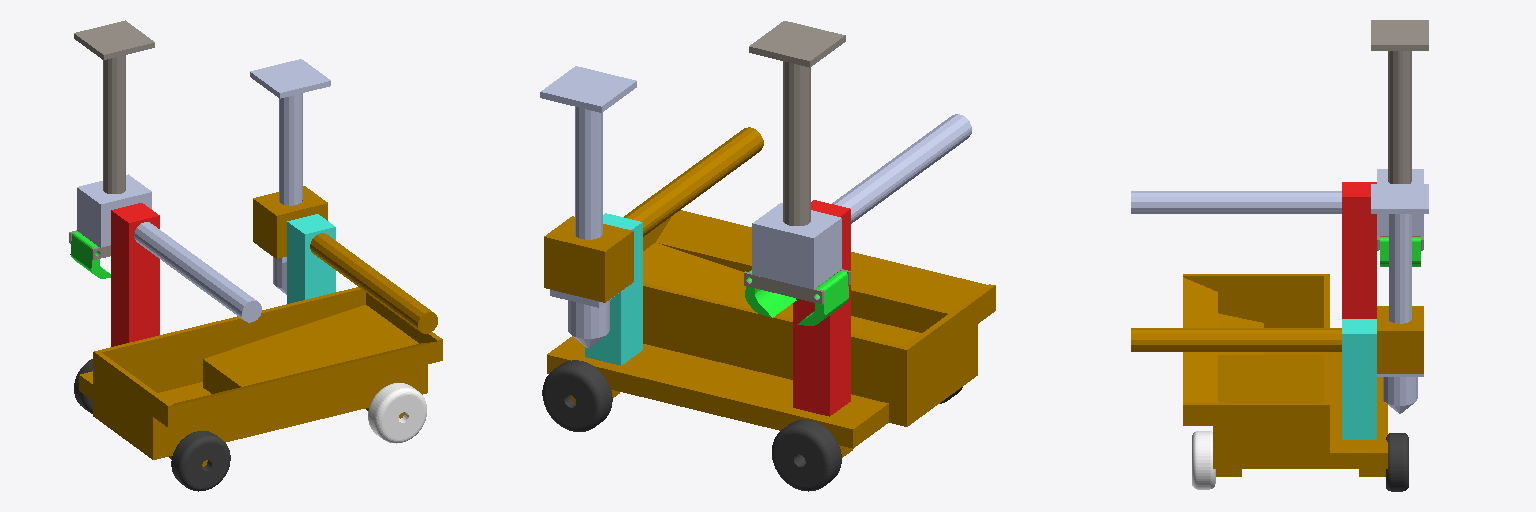
URDF robot description (Assem1):
<?xml version="0.0" encoding="utf-8"?>
<!-- This URDF was automatically created by SolidWorks to URDF Exporter! Originally created by [author] ([email redacted]) 
     Commit Version: 1.5.1-0-g916b5db  Build Version: 1.5.7152.31018
     For more information, please see http://wiki.ros.org/sw_urdf_exporter -->
<robot
  name="Assem1">
  
<link name="base_link">
    <inertial>
      <origin
        xyz="0 0 0"
        rpy="0 0 0" />
      <mass
        value="20.0" />
      <inertia
        ixx="1.0"
        ixy="0.0"
        ixz="0.0"
        iyy="1.0"
        iyz="0.0"
        izz="1.0" />
    </inertial>
    <visual>
      <origin
        xyz="0 0 0"
        rpy="0 0 0" />
      <geometry>
        <mesh
          filename="package://robot_urdf/mesh/base_link.STL" />
      </geometry>
      <material
        name="link1">
        <color
          rgba="0.75294 0.53333 0 1" />
      </material>
    </visual>
    <collision>
      <origin
        xyz="0 0 0"
        rpy="0 0 0" />
      <geometry>
        <mesh
          filename="package://robot_urdf/mesh/base_link.STL" />
      </geometry>
    </collision>
  </link>

  <link
    name="digging_link_1">
<inertial>
      <origin
        xyz="0 0 0"
        rpy="0 0 0" />
      <mass
        value="0.63832" />
      <inertia
        ixx="1.0"
        ixy="0.0"
        ixz="0.0"
        iyy="1.0"
        iyz="0.0"
        izz="1.0" />
    </inertial>
    <visual>
      <origin
        xyz="0 0 0"
        rpy="0 0 0" />
      <geometry>
        <mesh
          filename="package://robot_urdf/mesh/digging_link_1.STL" />
      </geometry>
      <material
        name="">
        <color
          rgba="0.317647058823529 1 0.925490196078431 1" />
      </material>
    </visual>
    
    <collision>
      <origin
        xyz="0 0 0"
        rpy="0 0 0" />
      <geometry>
        <mesh
          filename="package://robot_urdf/mesh/digging_link_1.STL" />
      </geometry>
    </collision>
  </link>
 <joint
 name="base_to_digging_link_1" type="revolute">
	<parent link="base_link" />
    	<child link="digging_link_1" />
   	
    	<limit lower="-3.1416" upper="3.1416" effort="0.2" velocity="0.5" />
 	<origin xyz="0.17 0 0" rpy="0 0 0" />
	<axis xyz="0 0 1" />
  </joint>

  <link
    name="digging_link_2">
    <inertial>
      <origin
        xyz="0 0 0"
        rpy="0 0 0" />
      <mass
        value="1.0673" />
      <inertia
        ixx="1.0"
        ixy="0.0"
        ixz="0.0"
        iyy="1.0"
        iyz="0.0"
        izz="1.0" />
    </inertial>
    <visual>
      <origin
        xyz="0 0.06998 0"
        rpy="0 0 0" />
      <geometry>
        <mesh
          filename="package://robot_urdf/mesh/digging_link_2.STL" />
      </geometry>
      <material
        name="red">
        <color
          rgba="0.75294 0.53333 0 1" />
      </material>
    </visual>
    <collision>
      <origin
        xyz="0 0 0"
        rpy="0 0 0" />
      <geometry>
        <mesh
          filename="package://robot_urdf/mesh/digging_link_2.STL" />
      </geometry>
    </collision>
  </link>
  <joint
    name="digging_link_1_to_2"
    type="prismatic">
    <origin
      xyz="0 0 0.175"
      rpy="0 0 0" />
    <parent
      link="digging_link_1" />
    <child
      link="digging_link_2" />
    <axis
      xyz="0 1 0" />
    <limit
      lower="0"
      upper="0.28"
      effort="0.2"
      velocity="0.5" />
  </joint>
  <link
    name="digging_link_3">
    <inertial>
      <origin
        xyz="0 0 0"
        rpy="0 0 0" />
      <mass
        value="0.001" />
      <inertia
        ixx="0.0"
        ixy="0.0"
        ixz="0.0"
        iyy="0.0"
        iyz="0.0"
        izz="0.0" />
    </inertial>
    <visual>
      <origin
        xyz="0 0 0.04"
        rpy="0 0 0" />
      <geometry>
        <mesh
          filename="package://robot_urdf/mesh/digging_link_3.STL" />
      </geometry>
      <material
        name="blue">
        <color
          rgba="0.79216 0.81961 0.93333 1" />
      </material>
    </visual>
    <collision>
      <origin
        xyz="0 0 0"
        rpy="0 0 0" />
      <geometry>
        <mesh
          filename="package://robot_urdf/mesh/digging_link_3.STL" />
      </geometry>
    </collision>
  </link>
  <joint
    name="digging_link_2_to_3"
    type="prismatic">
    <origin
      xyz="0 0.07 0"
      rpy="3.1416 0 0" />
    <parent
      link="digging_link_2" />
    <child
      link="digging_link_3" />
    <axis
      xyz="0 0 1" />
    <limit
      lower="0"
      upper="0.22"
      effort="0.2"
      velocity="0.5" />
  </joint>
  <link
    name="seeding_link_1">
    <inertial>
      <origin
        xyz="0 0 0"
        rpy="0 0 0" />
      <mass
        value="0.99832" />
      <inertia
        ixx="1.0"
        ixy="0.0"
        ixz="0.0"
        iyy="1.0"
        iyz="0.0"
        izz="1.0" />
    </inertial>
    <visual>
      <origin
        xyz="0 0 0"
        rpy="0 0 0" />
      <geometry>
        <mesh
          filename="package://robot_urdf/mesh/seeding_link_1.STL" />
      </geometry>
      <material
        name="red">
        <color
          rgba="1 0.16863 0.16863 1" />
      </material>
    </visual>
    <collision>
      <origin
        xyz="0 0 0"
        rpy="0 0 0" />
      <geometry>
        <mesh
          filename="package://robot_urdf/mesh/seeding_link_1.STL" />
      </geometry>
    </collision>
  </link>
  <joint
    name="base_to_seeding_link_1"
    type="revolute">
    <origin
      xyz="-0.17 0 0"
      rpy="0 0 0" />
    <parent
      link="base_link" />
    <child
      link="seeding_link_1" />
    <axis
      xyz="0 0 1" />
    <limit
      lower="-3.1416"
      upper="3.1416"
      effort="0.2"
      velocity="0.5" />
  </joint>
  <link
    name="seeding_link_2">
    <inertial>
      <origin
        xyz="0 0 0"
        rpy="0 0 0" />
      <mass
        value="1.0673" />
      <inertia
        ixx="1.0"
        ixy="0.0"
        ixz="0.0"
        iyy="1.0"
        iyz="0.0"
        izz="1.0" />
    </inertial>
    <visual>
      <origin
        xyz="0 0.07 0"
        rpy="0 0 0" />
      <geometry>
        <mesh
          filename="package://robot_urdf/mesh/seeding_link_2.STL" />
      </geometry>
      <material
        name="green">
        <color
          rgba="0.79216 0.81961 0.93333 1" />>
      </material>
    </visual>
    <collision>
      <origin
        xyz="0 0 0"
        rpy="0 0 0" />
      <geometry>
        <mesh
          filename="package://robot_urdf/mesh/seeding_link_2.STL" />
      </geometry>
    </collision>
  </link>
  <joint
    name="seeding_link_1_to_2"
    type="prismatic">
    <origin
      xyz="0 0 0.275"
      rpy="0 0 0" />
    <parent
      link="seeding_link_1" />
    <child
      link="seeding_link_2" />
    <axis
      xyz="0 1 0" />
    <limit
      lower="0"
      upper="0.30"
      effort="0.2"
      velocity="0.5" />
  </joint>
  <link
    name="seeding_link_3">
    <inertial>
      <origin
        xyz="0 0 0"
        rpy="0 0 0" />
      <mass
        value="0.001" />
      <inertia
        ixx="0.0"
        ixy="0.0"
        ixz="0.0"
        iyy="0.0"
        iyz="0.0"
        izz="0.0" />
    </inertial>
    <visual>
      <origin
        xyz="0 0 0.04"
        rpy="0 0 0" />
      <geometry>
        <mesh
          filename="package://robot_urdf/mesh/seeding_link_3.STL" />
      </geometry>
      <material
        name="red">
        <color
          rgba="0.64706 0.61961 0.58824 1" />
      </material>
    </visual>
    <collision>
      <origin
        xyz="0 0 0"
        rpy="0 0 0" />
      <geometry>
        <mesh
          filename="package://robot_urdf/mesh/seeding_link_3.STL" />
      </geometry>
    </collision>
  </link>
  <joint
    name="seeding_link_2_to_3"
    type="prismatic">
    <origin
      xyz="0 0.07 0"
      rpy="3.1416 0 0" />
    <parent
      link="seeding_link_2" />
    <child
      link="seeding_link_3" />
    <axis
      xyz="0 0 1" />
    <limit
      lower="0"
      upper="0.22"
      effort="0.2"
      velocity="0.5" />
  </joint>
  <link
    name="clamp1">
    <inertial>
      <origin
        xyz="0 0 0"
        rpy="0 0 0" />
      <mass
        value="0.001" />
      <inertia
        ixx="1.0"
        ixy="0.0"
        ixz="0.0"
        iyy="1.0"
        iyz="0.0"
        izz="1.0" />
    </inertial>
    <visual>
      <origin
        xyz="0 0 0"
        rpy="0 0 0" />
      <geometry>
        <mesh
          filename="package://robot_urdf/mesh/clamp1.STL" />
      </geometry>
      <material
        name="green">
        <color
          rgba="0.19608 1 0.27451 1" />
      </material>
    </visual>
    <collision>
      <origin
        xyz="0 0 0"
        rpy="0 0 0" />
      <geometry>
        <mesh
          filename="package://robot_urdf/mesh/clamp1.STL" />
      </geometry>
    </collision>
  </link>
  <joint
    name="seeding_link_to_clamp1"
    type="revolute">
    <origin
      xyz="-0.055 0 0.05"
      rpy="0 -0.084482 0" />
    <parent
      link="seeding_link_3" />
    <child
      link="clamp1" />
    <axis
      xyz="0 1 0" />
    <limit
      lower="-1.1516"
      upper="1.1516"
      effort="0"
      velocity="0.5" />
  </joint>
  <link
    name="clamp2">
    <inertial>
      <origin
        xyz="0 0 0"
        rpy="0 0 0" />
      <mass
        value="0.001" />
      <inertia
        ixx="1.0"
        ixy="0.0"
        ixz="0.0"
        iyy="1.0"
        iyz="0.0"
        izz="1.0" />
    </inertial>
    <visual>
      <origin
        xyz="0 0 0"
        rpy="0 0 0" />
      <geometry>
        <mesh
          filename="package://robot_urdf/mesh/clamp2.STL" />
      </geometry>
      <material
        name="green">
        <color
          rgba="0.19608 1 0.27451 1" />
      </material>
    </visual>
    <collision>
      <origin
        xyz="0 0 0"
        rpy="0 0 0" />
      <geometry>
        <mesh
          filename="package://robot_urdf/mesh/clamp2.STL" />
      </geometry>
    </collision>
  </link>
  <joint
    name="seeding_link_to_clamp2"
    type="revolute">
    <origin
      xyz="0.055 0 0.05"
      rpy="0 0.084482 0" />
    <parent
      link="seeding_link_3" />
    <child
      link="clamp2" />
    <axis
      xyz="0 -1 0" />
    <limit
      lower="-1.1516"
      upper="1.1516"
      effort="0"
      velocity="0.5" />
  </joint>
  <link
    name="tyre1">
    <inertial>
      <origin
        xyz="0 0 0"
        rpy="0 0 0" />
      <mass
        value="0.28871" />
      <inertia
        ixx="1.0"
        ixy="0.0"
        ixz="0.0"
        iyy="1.0"
        iyz="0.0"
        izz="1.0" />
    </inertial>
    <visual>
      <origin
        xyz="0 0 0"
        rpy="0 0 0" />
      <geometry>
        <mesh
          filename="package://robot_urdf/mesh/tyre1.STL" />
      </geometry>
      <material
        name="black">
        <color
          rgba="0.29804 0.29804 0.29804 1" />
      </material>
    </visual>
    <collision>
      <origin
        xyz="0 0 0"
        rpy="0 0 0" />
      <geometry>
        <mesh
          filename="package://robot_urdf/mesh/tyre1.STL" />
      </geometry>
    </collision>
  </link>
  <joint
    name="base_to_tyre1"
    type="continuous">
    <origin
      xyz="0.19123 0.04506 -0.045"
      rpy="1.5708 0 -3.1416" />
    <parent
      link="base_link" />
    <child
      link="tyre1" />
    <axis
      xyz="0 0 -1" />
  </joint>
  <link
    name="tyre2">
    <inertial>
      <origin
        xyz="0 0 0"
        rpy="0 0 0" />
      <mass
        value="0.28871" />
      <inertia
        ixx="1.0"
        ixy="0.0"
        ixz="0.0"
        iyy="1.0"
        iyz="0.0"
        izz="1.0" />
    </inertial>
    <visual>
      <origin
        xyz="0 0 0"
        rpy="0 0 0" />
      <geometry>
        <mesh
          filename="package://robot_urdf/mesh/tyre2.STL" />
      </geometry>
      <material
        name="black">
        <color
          rgba="0.29804 0.29804 0.29804 1" />
      </material>
    </visual>
    <collision>
      <origin
        xyz="0 0 0"
        rpy="0 0 0" />
      <geometry>
        <mesh
          filename="package://robot_urdf/mesh/tyre2.STL" />
      </geometry>
    </collision>
  </link>
  <joint
    name="base_to_tyre2"
    type="continuous">
    <origin
      xyz="-0.1884 0.05491 -0.045"
      rpy="1.5708 0 -3.1416" />
    <parent
      link="base_link" />
    <child
      link="tyre2" />
    <axis
      xyz="0 0 1" />
  </joint>
  <link
    name="tyre3">
    <inertial>
      <origin
        xyz="0 0 0"
        rpy="0 0 0" />
      <mass
        value="0.28871" />
      <inertia
        ixx="1.0"
        ixy="0.0"
        ixz="0.0"
        iyy="1.0"
        iyz="0.0"
        izz="1.0" />
    </inertial>
    <visual>
      <origin
        xyz="0 0 0"
        rpy="0 0 0" />
      <geometry>
        <mesh
          filename="package://robot_urdf/mesh/tyre3.STL" />
      </geometry>
      <material
        name="black">
        <color
          rgba="0.29804 0.29804 0.29804 1" />
      </material>
    </visual>
    <collision>
      <origin
        xyz="0 0 0"
        rpy="0 0 0" />
      <geometry>
        <mesh
          filename="package://robot_urdf/mesh/tyre3.STL" />
      </geometry>
    </collision>
  </link>
  <joint
    name="base_to_tyre3"
    type="continuous">
    <origin
      xyz="-0.19642 -0.24499 -0.045"
      rpy="1.5708 0 0" />
    <parent
      link="base_link" />
    <child
      link="tyre3" />
    <axis
      xyz="0 0 1" />
  </joint>
  <link
    name="tyre4">
    <inertial>
      <origin
        xyz="0 0 0"
        rpy="0 0 0" />
      <mass
        value="0.28871" />
      <inertia
        ixx="1.0"
        ixy="0.0"
        ixz="0.0"
        iyy="1.0"
        iyz="0.0"
        izz="1.0" />
    </inertial>
    <visual>
      <origin
        xyz="0 0 0"
        rpy="0 0 0" />
      <geometry>
        <mesh
          filename="package://robot_urdf/mesh/tyre4.STL" />
      </geometry>
      <material
        name="black">
        <color
          rgba="1 1 1 1" />
      </material>
    </visual>
    <collision>
      <origin
        xyz="0 0 0"
        rpy="0 0 0" />
      <geometry>
        <mesh
          filename="package://robot_urdf/mesh/tyre4.STL" />
      </geometry>
    </collision>
  </link>
  <joint
    name="base_to_tyre4"
    type="continuous">
    <origin
      xyz="0.18346 -0.24499 -0.045"
      rpy="1.5708 0 0" />
    <parent
      link="base_link" />
    <child
      link="tyre4" />
    <axis
      xyz="0 0 -1" />
  </joint>

<transmission name="tran1">
    <type>transmission_interface/SimpleTransmission</type>
	  <joint name="base_to_digging_link_1">
	    <hardwareInterface>PositionJointInterface</hardwareInterface>
	  </joint>
	  <actuator name="motor1">
	      <hardwareInterface>PositionJointInterface</hardwareInterface>
	      <mechanicalReduction>1</mechanicalReduction>
	  </actuator>
</transmission>

<transmission name="tran2">
    <type>transmission_interface/SimpleTransmission</type>
	  <joint name="digging_link_1_to_2">
	    <hardwareInterface>PositionJointInterface</hardwareInterface>
	  </joint>
	  <actuator name="motor2">
	      <hardwareInterface>PositionJointInterface</hardwareInterface>
	      <mechanicalReduction>1</mechanicalReduction>
	  </actuator>
</transmission>

<transmission name="tran3">
    <type>transmission_interface/SimpleTransmission</type>
	  <joint name="digging_link_2_to_3">
	    <hardwareInterface>PositionJointInterface</hardwareInterface>
	  </joint>
	  <actuator name="motor3">
	      <hardwareInterface>PositionJointInterface</hardwareInterface>
	      <mechanicalReduction>1</mechanicalReduction>
	  </actuator>
</transmission>

<transmission name="tran4">
    <type>transmission_interface/SimpleTransmission</type>
	  <joint name="base_to_seeding_link_1">
	    <hardwareInterface>PositionJointInterface</hardwareInterface>
	  </joint>
	  <actuator name="motor4">
	      <hardwareInterface>PositionJointInterface</hardwareInterface>
	      <mechanicalReduction>1</mechanicalReduction>
	  </actuator>
</transmission>

<transmission name="tran5">
    <type>transmission_interface/SimpleTransmission</type>
	  <joint name="seeding_link_1_to_2">
	    <hardwareInterface>PositionJointInterface</hardwareInterface>
	  </joint>
	  <actuator name="motor5">
	      <hardwareInterface>PositionJointInterface</hardwareInterface>
	      <mechanicalReduction>1</mechanicalReduction>
	  </actuator>
</transmission>

<transmission name="tran6">
    <type>transmission_interface/SimpleTransmission</type>
	  <joint name="seeding_link_2_to_3">
	    <hardwareInterface>PositionJointInterface</hardwareInterface>
	  </joint>
	  <actuator name="motor6">
	      <hardwareInterface>PositionJointInterface</hardwareInterface>
	      <mechanicalReduction>1</mechanicalReduction>
	  </actuator>
</transmission>

<transmission name="tran7">
    <type>transmission_interface/SimpleTransmission</type>
	  <joint name="seeding_link_to_clamp1">
	    <hardwareInterface>PositionJointInterface</hardwareInterface>
	  </joint>
	  <actuator name="motor7">
	      <hardwareInterface>PositionJointInterface</hardwareInterface>
	      <mechanicalReduction>1</mechanicalReduction>
	  </actuator>
</transmission>

<transmission name="tran8">
    <type>transmission_interface/SimpleTransmission</type>
	  <joint name="seeding_link_to_clamp2">
	    <hardwareInterface>PositionJointInterface</hardwareInterface>
	  </joint>
	  <actuator name="motor8">
	      <hardwareInterface>PositionJointInterface</hardwareInterface>
	      <mechanicalReduction>1</mechanicalReduction>
	  </actuator>
</transmission>

<transmission name="tran9">
    <type>transmission_interface/SimpleTransmission</type>
	  <joint name="base_to_tyre1">
	    <hardwareInterface>PositionJointInterface</hardwareInterface>
	  </joint>
	  <actuator name="motor9">
	      <hardwareInterface>PositionJointInterface</hardwareInterface>
	      <mechanicalReduction>1</mechanicalReduction>
	  </actuator>
</transmission>

<transmission name="tran10">
    <type>transmission_interface/SimpleTransmission</type>
	  <joint name="base_to_tyre2">
	    <hardwareInterface>PositionJointInterface</hardwareInterface>
	  </joint>
	  <actuator name="motor10">
	      <hardwareInterface>PositionJointInterface</hardwareInterface>
	      <mechanicalReduction>1</mechanicalReduction>
	  </actuator>
</transmission>

<transmission name="tran11">
    <type>transmission_interface/SimpleTransmission</type>
	  <joint name="base_to_tyre3">
	    <hardwareInterface>PositionJointInterface</hardwareInterface>
	  </joint>
	  <actuator name="motor11">
	      <hardwareInterface>PositionJointInterface</hardwareInterface>
	      <mechanicalReduction>1</mechanicalReduction>
	  </actuator>
</transmission>

<transmission name="tran12">
    <type>transmission_interface/SimpleTransmission</type>
	  <joint name="base_to_tyre4">
	    <hardwareInterface>PositionJointInterface</hardwareInterface>
	  </joint>
	  <actuator name="motor12">
	      <hardwareInterface>PositionJointInterface</hardwareInterface>
	      <mechanicalReduction>1</mechanicalReduction>
	  </actuator>
</transmission>

<gazebo>
  <plugin name="gazebo_ros_control" filename="libgazebo_ros_control.so">
  </plugin>
</gazebo>

</robot>

--- What the picture shows (computed from the rendered views, not written in the file) ---
Views: 3 orthographic renders of the robot side by side, from view 1: azimuth 30°, elevation 25°; view 2: azimuth 150°, elevation 25°; view 3: azimuth 270°, elevation 25°.
Robot: Assem1 — 13 links, 12 joints (4 revolute, 4 continuous, 4 prismatic); root link base_link; default pose: every joint at zero.
Visible links, largest first — view 1: base_link, seeding_link_2, digging_link_2, seeding_link_1, seeding_link_3, digging_link_3, digging_link_1, tyre4, tyre3, clamp1; view 2: base_link, seeding_link_2, digging_link_2, seeding_link_3, digging_link_3, seeding_link_1, tyre2, tyre1, digging_link_1, clamp1, clamp2; view 3: base_link, digging_link_2, seeding_link_2, digging_link_3, seeding_link_3, seeding_link_1, digging_link_1, tyre4, tyre1, clamp2.
Link boxes in pixels (x1,y1,x2,y2): base_link: [79, 287, 442, 466]; seeding_link_2: [77, 174, 261, 322]; digging_link_2: [253, 186, 437, 333]; seeding_link_1: [111, 203, 159, 346]; seeding_link_3: [69, 20, 154, 259]; digging_link_3: [250, 59, 330, 294]; digging_link_1: [287, 214, 335, 303]; tyre4: [368, 383, 426, 443]; tyre3: [171, 431, 230, 491]; clamp1: [70, 232, 110, 278]; base_link: [547, 210, 995, 457]; seeding_link_2: [752, 114, 971, 289]; digging_link_2: [544, 127, 763, 302]; seeding_link_3: [744, 21, 850, 304]; digging_link_3: [540, 66, 636, 348]; seeding_link_1: [793, 200, 850, 416]; tyre2: [772, 420, 841, 491]; tyre1: [542, 360, 612, 431]; digging_link_1: [585, 213, 642, 365]; clamp1: [798, 271, 848, 325]; clamp2: [745, 270, 796, 317]; base_link: [1183, 274, 1387, 476]; digging_link_2: [1131, 306, 1423, 373]; seeding_link_2: [1131, 169, 1423, 235]; digging_link_3: [1371, 184, 1428, 413]; seeding_link_3: [1371, 20, 1428, 250]; seeding_link_1: [1342, 182, 1376, 318]; digging_link_1: [1342, 319, 1376, 439]; tyre4: [1192, 431, 1215, 489]; tyre1: [1386, 433, 1408, 491]; clamp2: [1380, 237, 1420, 266].
Size in the robot's own frame: 0.53 by 0.51 by 0.69 metres.
Meshes: 13 distinct files referenced, 13 mesh visuals loaded (13 binary STL).
